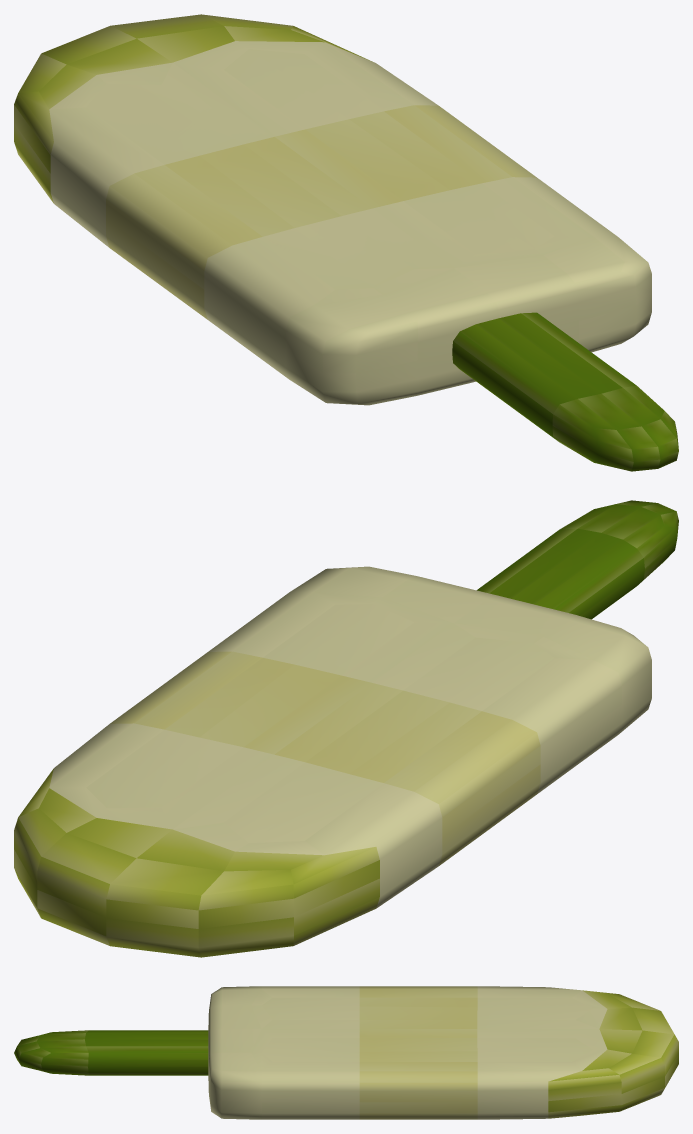
Rendered from OBS0110276.fbx.
The picture shows the model from 3 angles, top to bottom: view 1: azimuth 30°, elevation 25°; view 2: azimuth 150°, elevation 25°; view 3: azimuth 270°, elevation 25°; orthographic projection. The views are drawn at different scales.
Visible parts, largest first — view 1: smOBS0110276; view 2: smOBS0110276; view 3: smOBS0110276.
Boxes of the visible parts, box(x1,y1,x2,y2) form: smOBS0110276: box(14, 14, 678, 471); smOBS0110276: box(14, 500, 678, 957); smOBS0110276: box(14, 986, 678, 1119).
Bounding box in the file's own units: 105 × 23.96 × 299.
